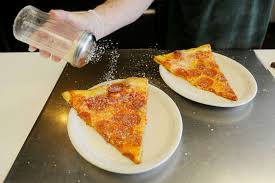pizza: (63, 83, 161, 166), (150, 48, 246, 101)
